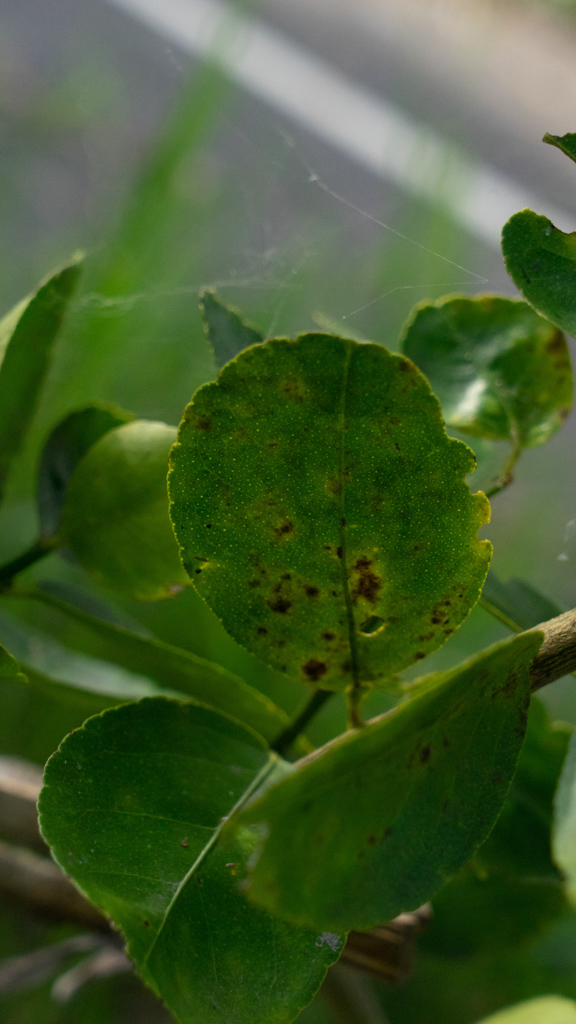Canker: (165, 333, 494, 698), (400, 581, 473, 662), (253, 564, 324, 626), (345, 548, 400, 617), (301, 645, 338, 688)
